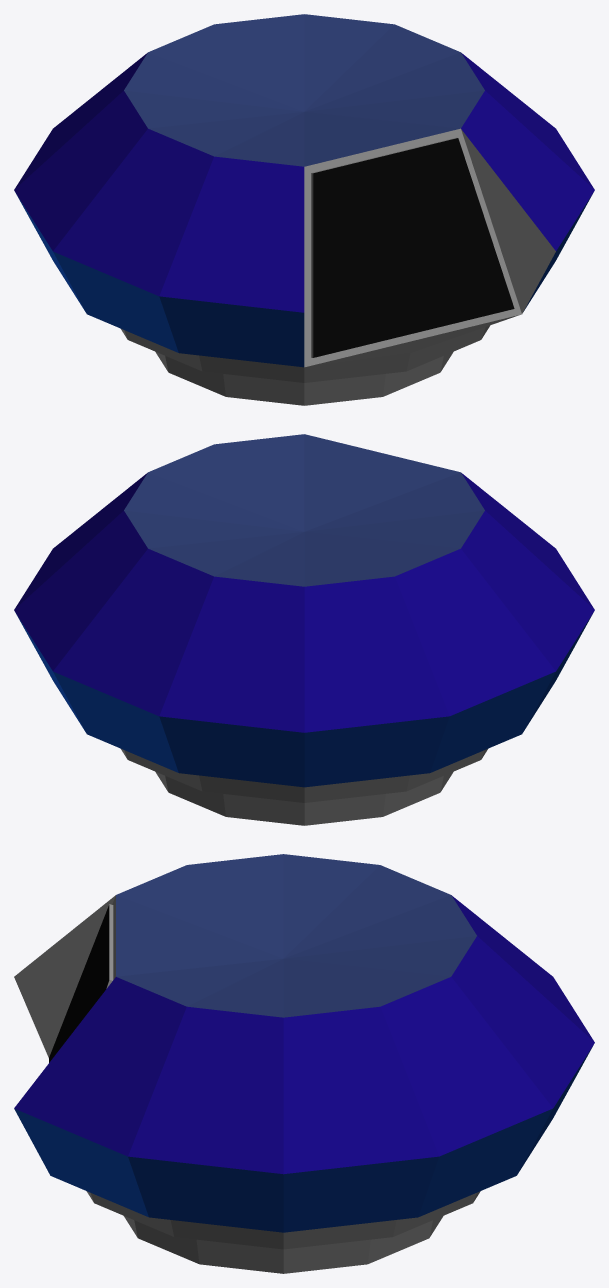
File: Training room.fbx
3 views of the same model, one above another, from view 1: azimuth 30°, elevation 25°; view 2: azimuth 150°, elevation 25°; view 3: azimuth 270°, elevation 25° (orthographic). The views are drawn at different scales.
Parts seen in each view (by area): view 1: Room; view 2: Room; view 3: Room.
Part boxes in pixels (x1=…): Room: x1=14, y1=14, x2=594, y2=405; Room: x1=14, y1=434, x2=594, y2=825; Room: x1=14, y1=854, x2=594, y2=1273.
Size of the model in its own units: 1110 by 525 by 1036.
